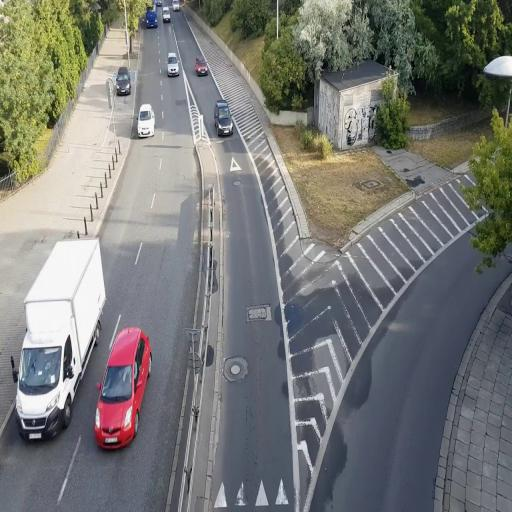vehicle: (13, 236, 106, 442), (94, 319, 152, 451), (214, 100, 233, 135), (137, 104, 155, 138), (114, 67, 132, 96), (166, 52, 180, 77), (194, 56, 209, 77), (145, 10, 158, 28)
